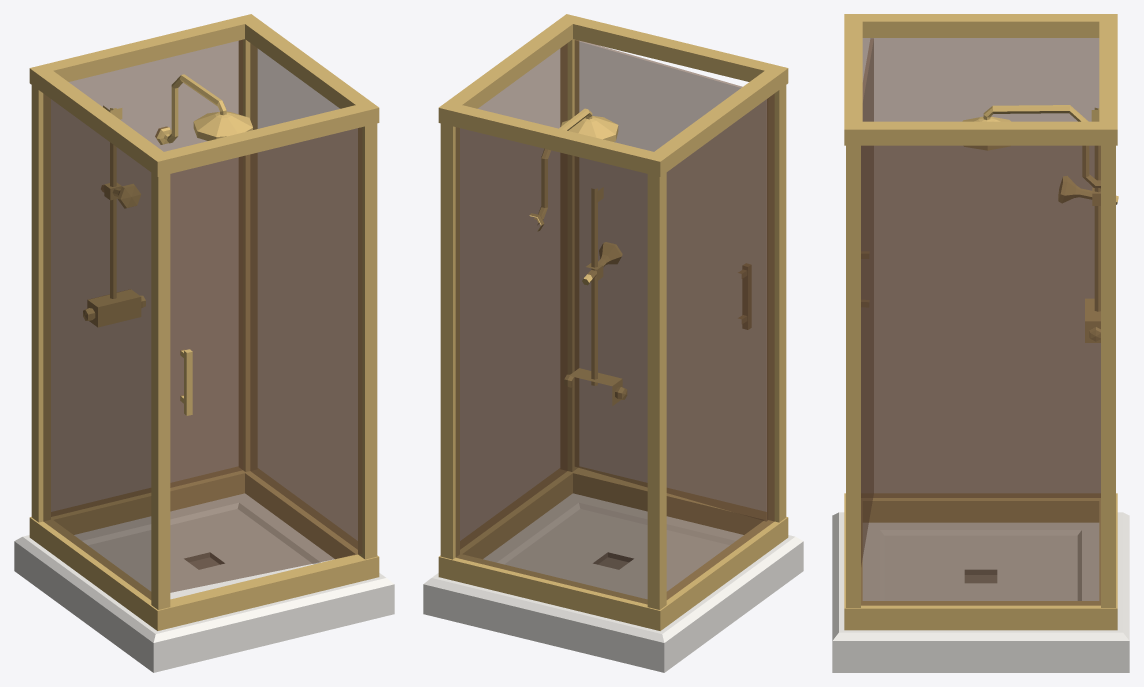
The model's file is home_shower.glb.
The picture shows the model from 3 angles, left to right: view 1: azimuth 30°, elevation 25°; view 2: azimuth 150°, elevation 25°; view 3: azimuth 270°, elevation 25°; orthographic projection. The views are drawn at different scales.
Visible parts, largest first — view 1: shower-enclosure, door; view 2: shower-enclosure, door, handset; view 3: shower-enclosure, door, handset.
Part boxes in pixels (x1,y1,x2,y2): shower-enclosure: (14, 14, 394, 672); door: (170, 127, 362, 592); shower-enclosure: (423, 14, 803, 672); door: (574, 40, 767, 520); handset: (582, 242, 622, 285); shower-enclosure: (832, 14, 1129, 672); door: (861, 38, 873, 564); handset: (1058, 176, 1118, 204).
Size of the model in its own units: 1 by 2 by 1.
